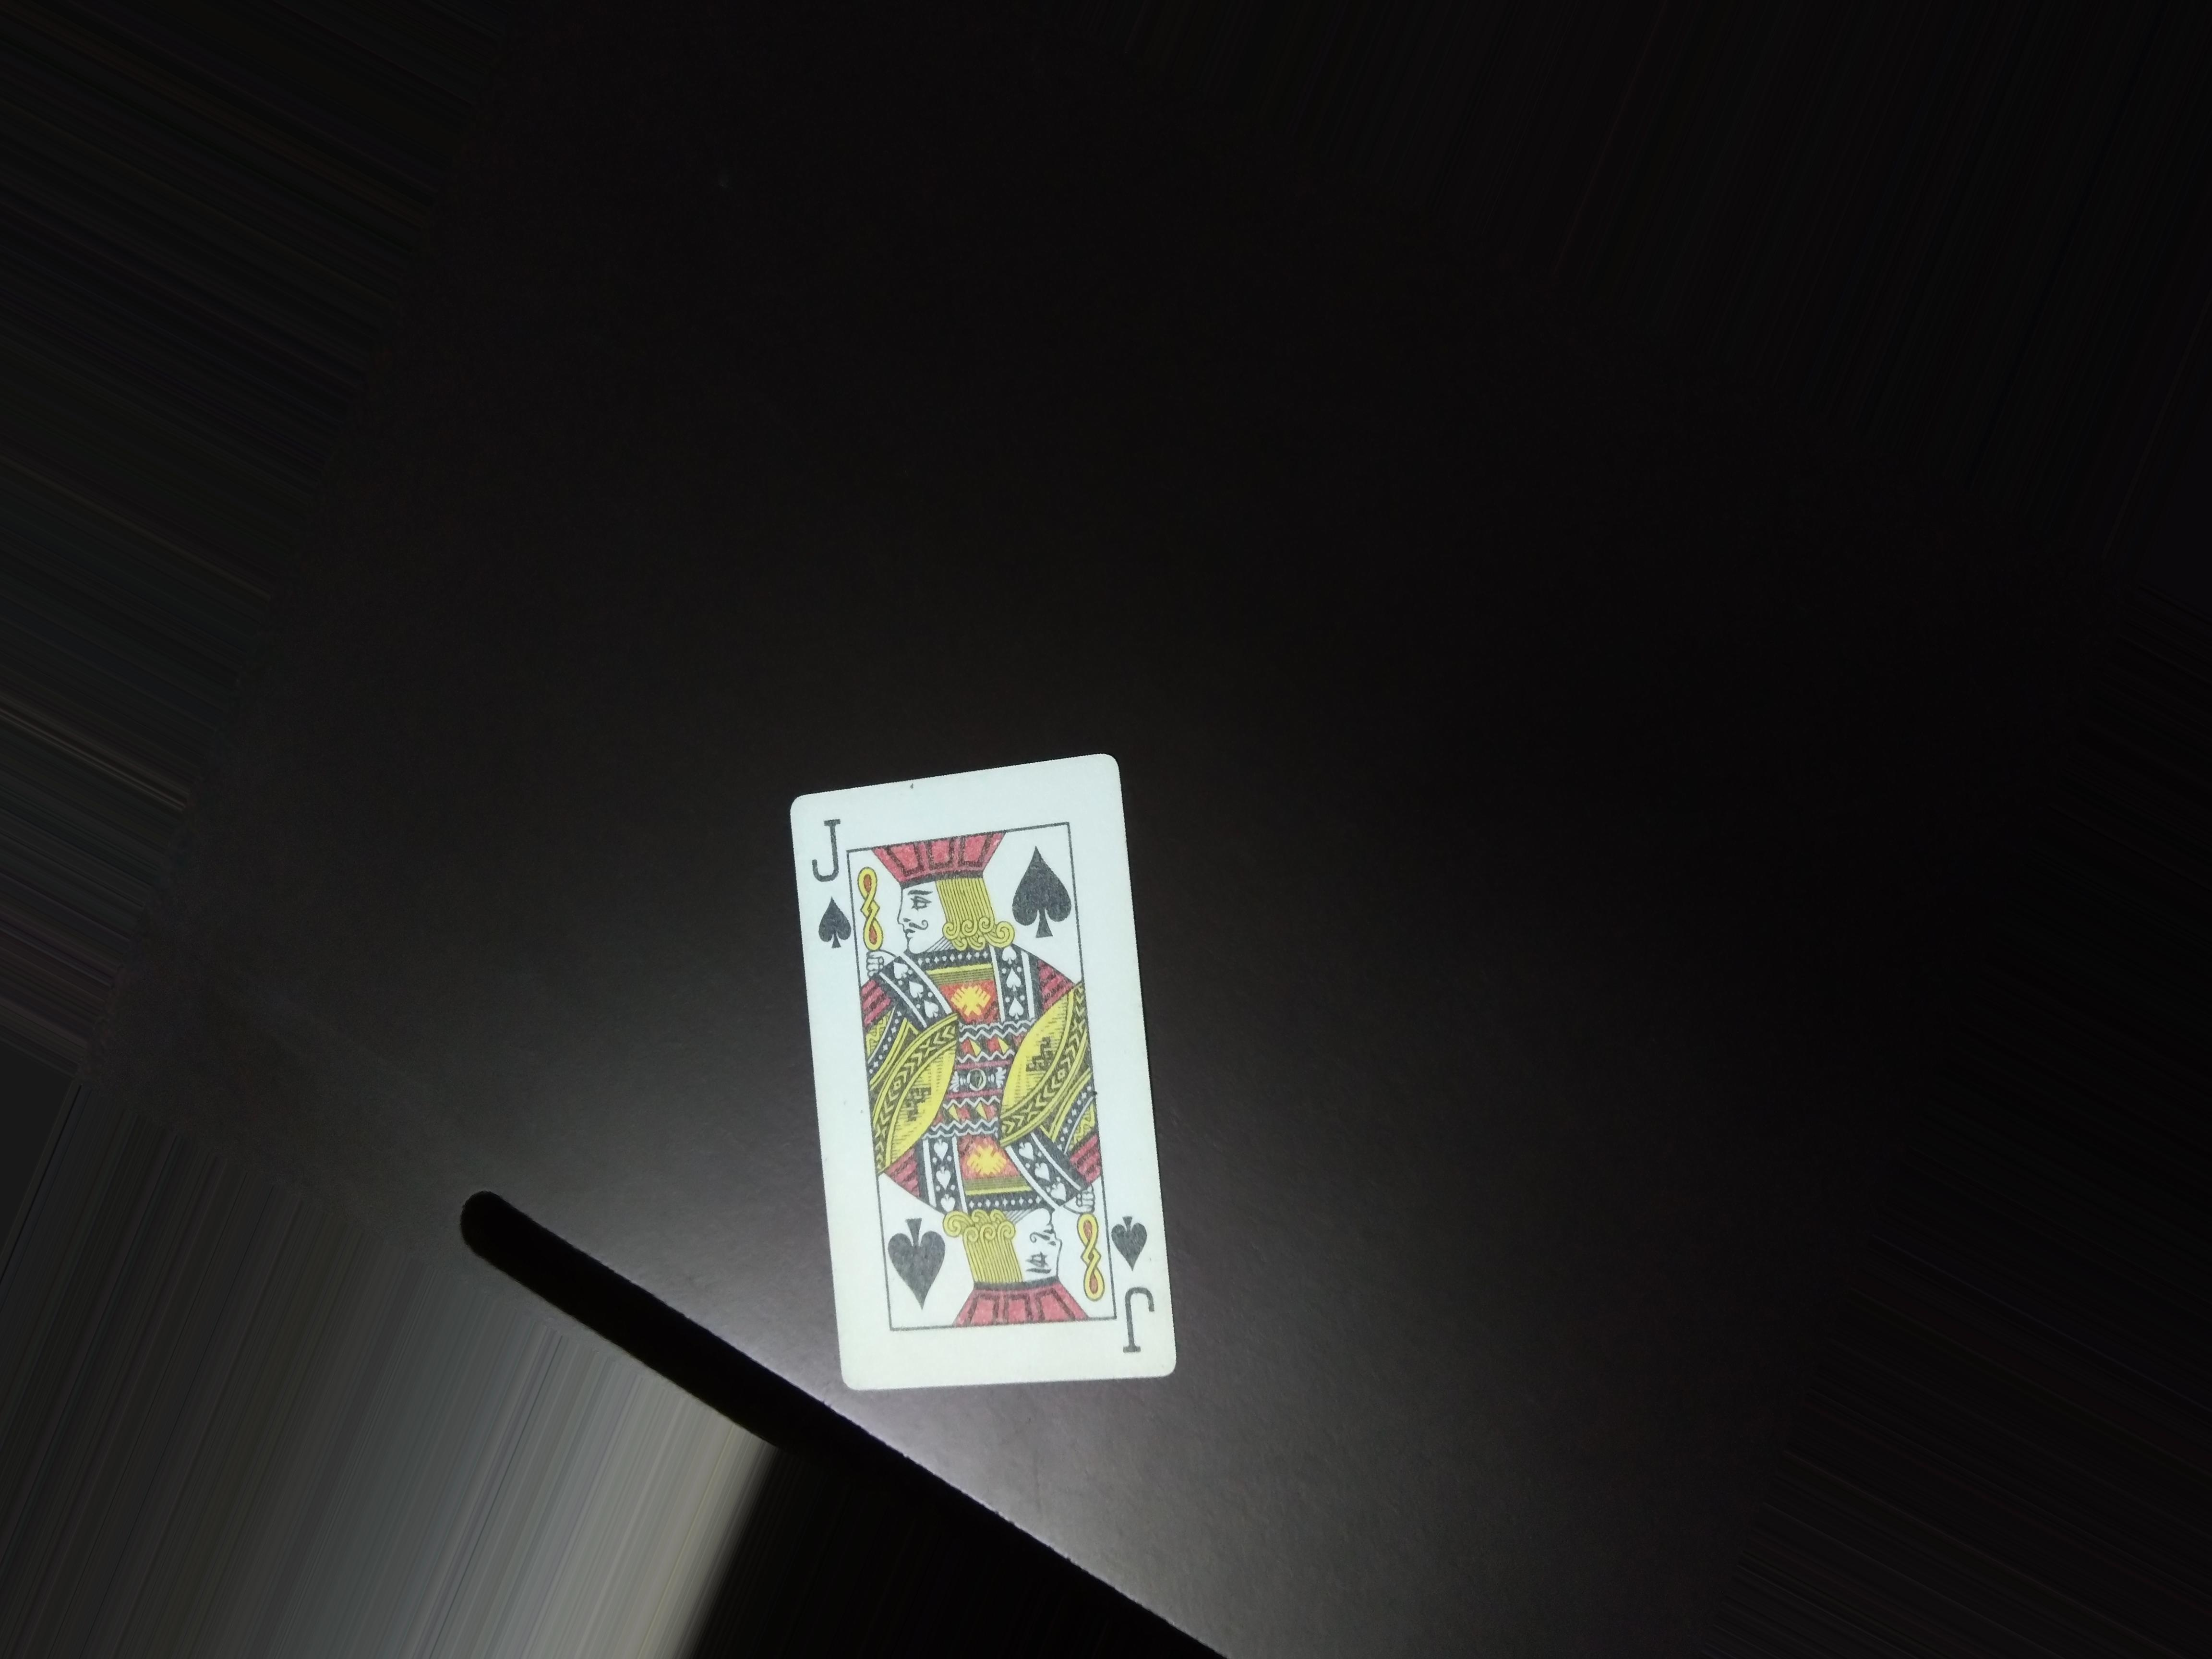JS: (1118, 1202, 1153, 1364)
